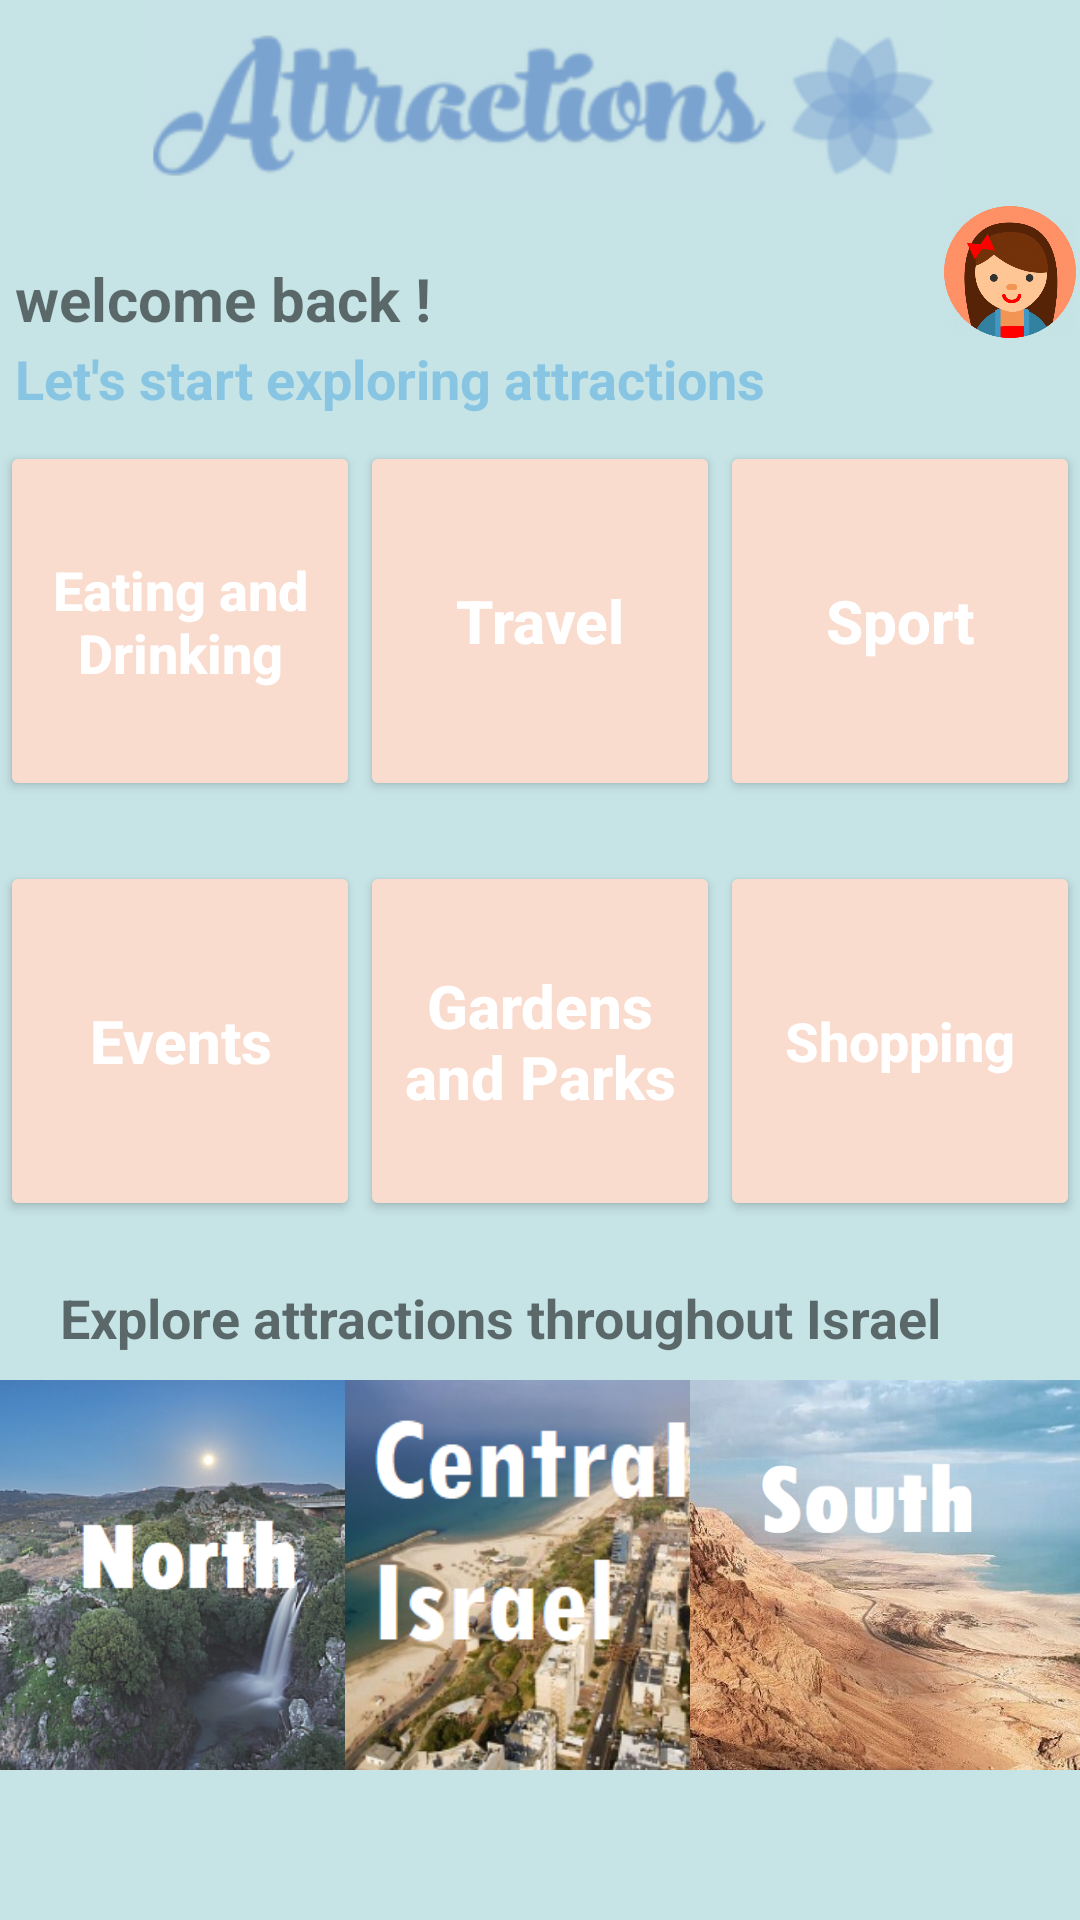

Where to tap for icons on this 1080×1920 app screen, as (x=x, y=y):
avatargirlt: (x=1010, y=272)
